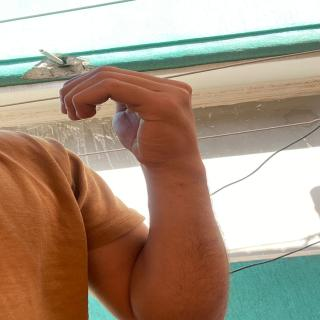HAA: (51, 55, 228, 169)
